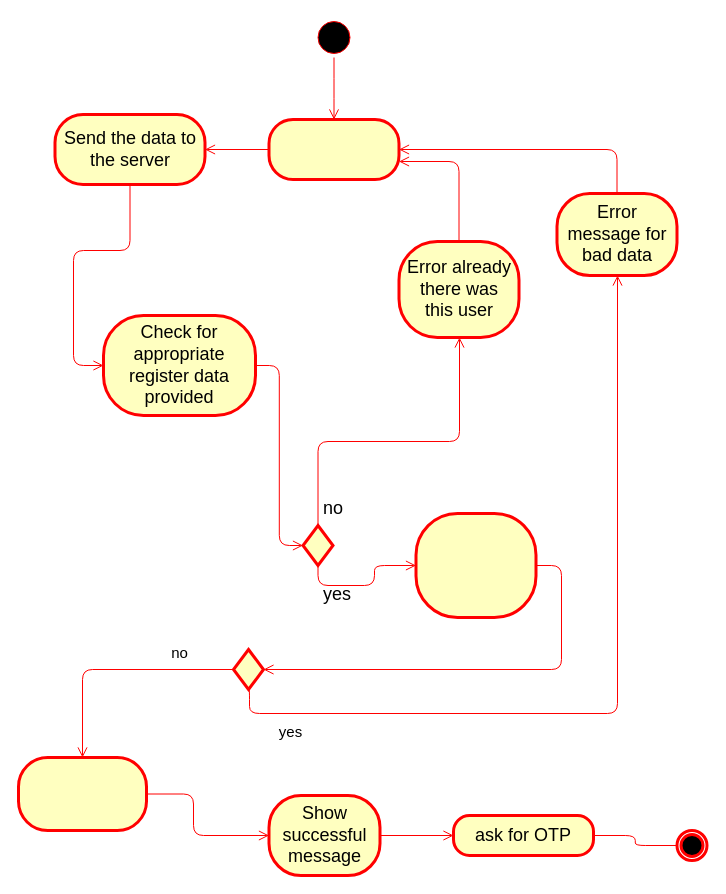
Image size: 726x894. Some labels were removed from this diagram. Here are the shapes that lost their labels. From the top down, the box of each, then its label:
(267, 118, 400, 180): Fill out register form by user
(414, 512, 537, 618): Check this user has already registered
(16, 756, 148, 832): Create jwt tokens
